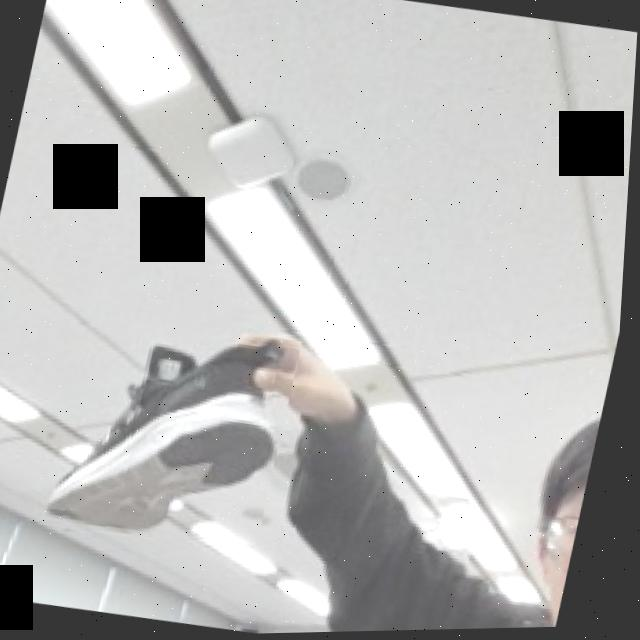shoe: (46, 308, 308, 556)
